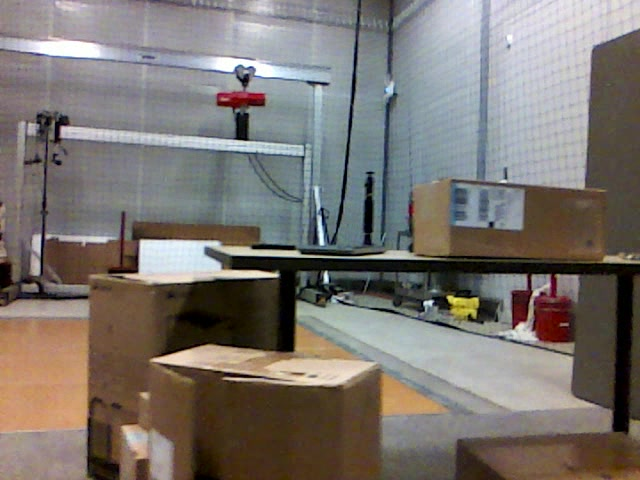box: (92, 271, 298, 480), (151, 342, 385, 480), (412, 181, 607, 261), (458, 434, 640, 479)
